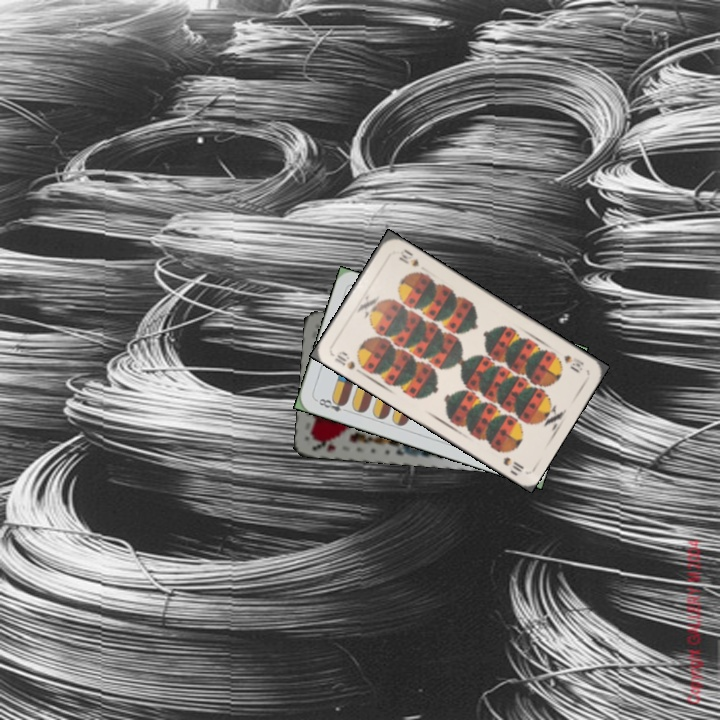E8: (312, 394, 351, 415)
HK: (308, 433, 338, 454)
S10: (330, 347, 367, 372), (560, 351, 587, 374)
